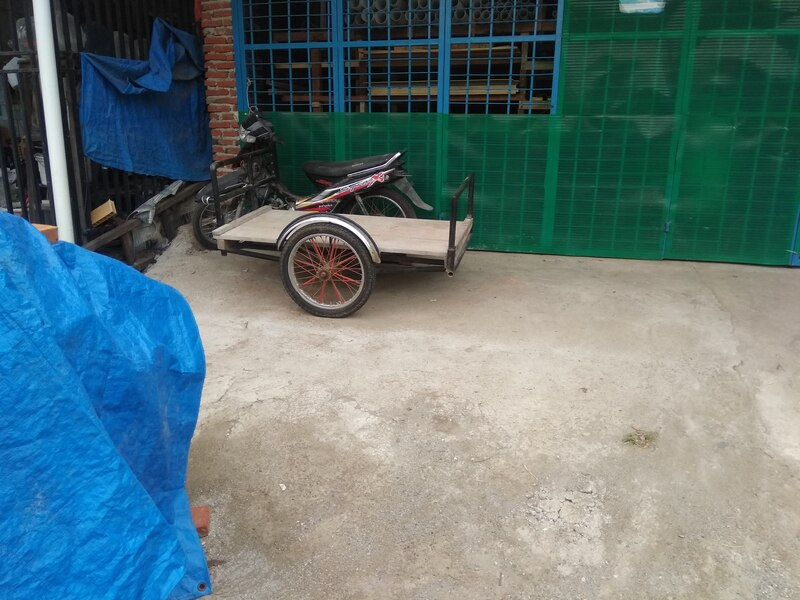becak barang: (192, 106, 494, 322)
